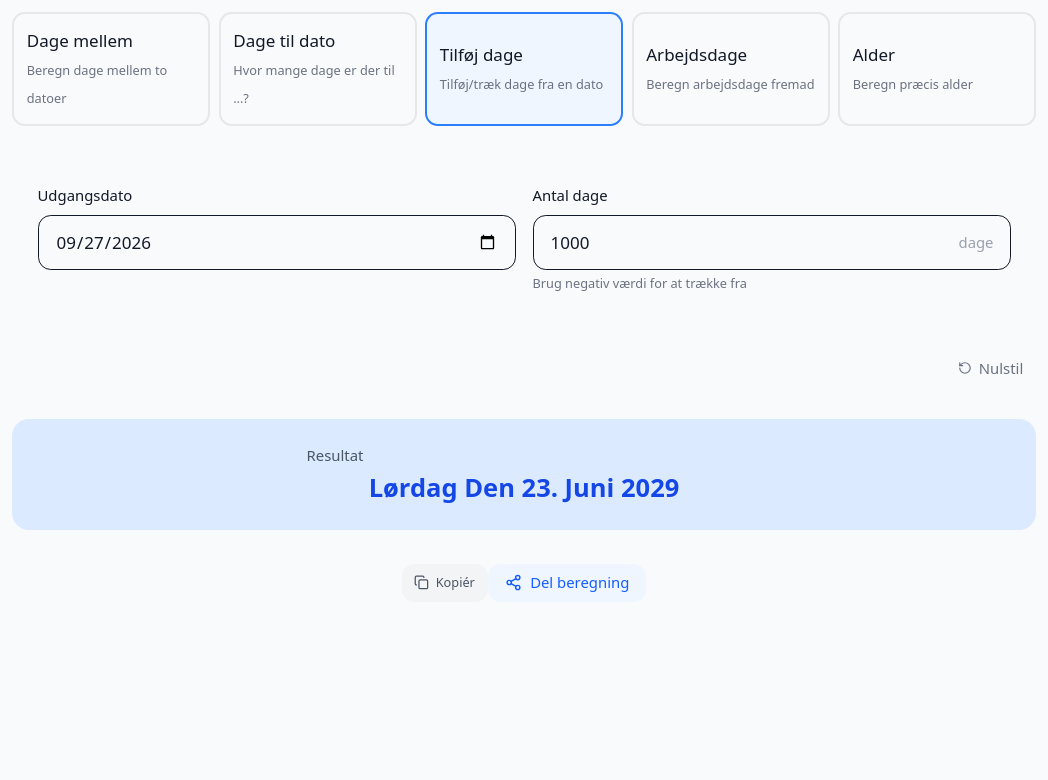
DatoBeregner — dage til dato › feltet står forudvalgt til den næste juleaften
Click the button "Dage til dato Hvor mange dage er der til …?" at (318, 69), box left=218, top=12, right=416, bottom=126
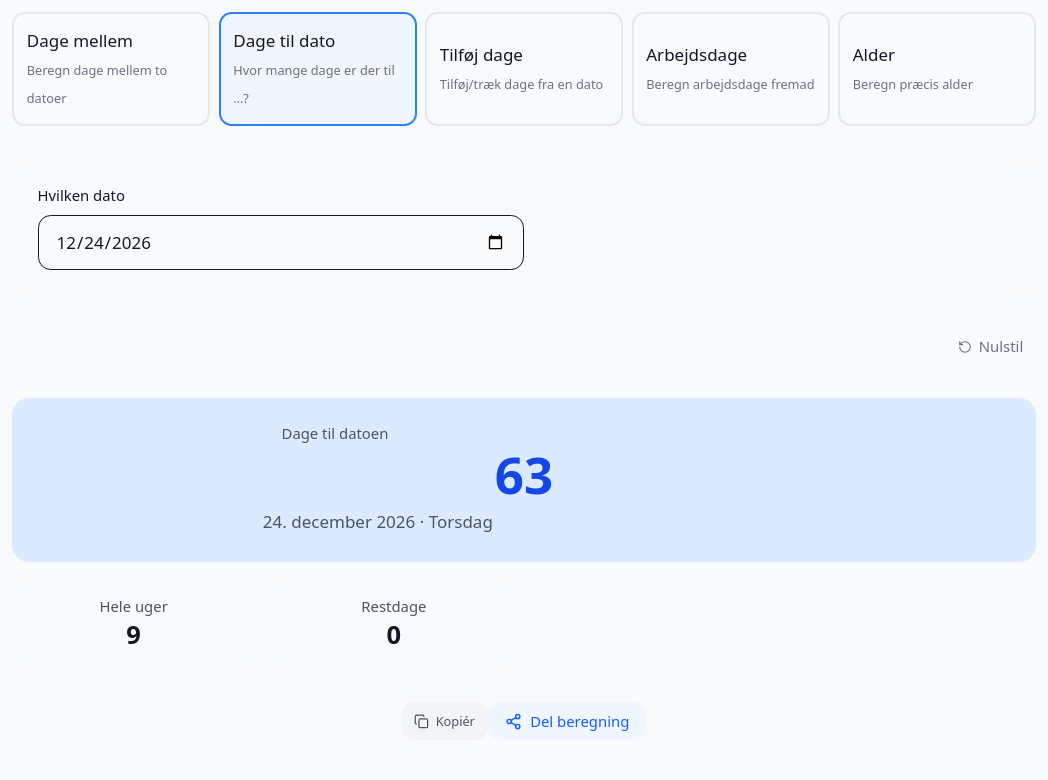
Expected: the date field labelled "Hvilken dato" holds "2026-12-24", left=38, top=215, right=524, bottom=270
